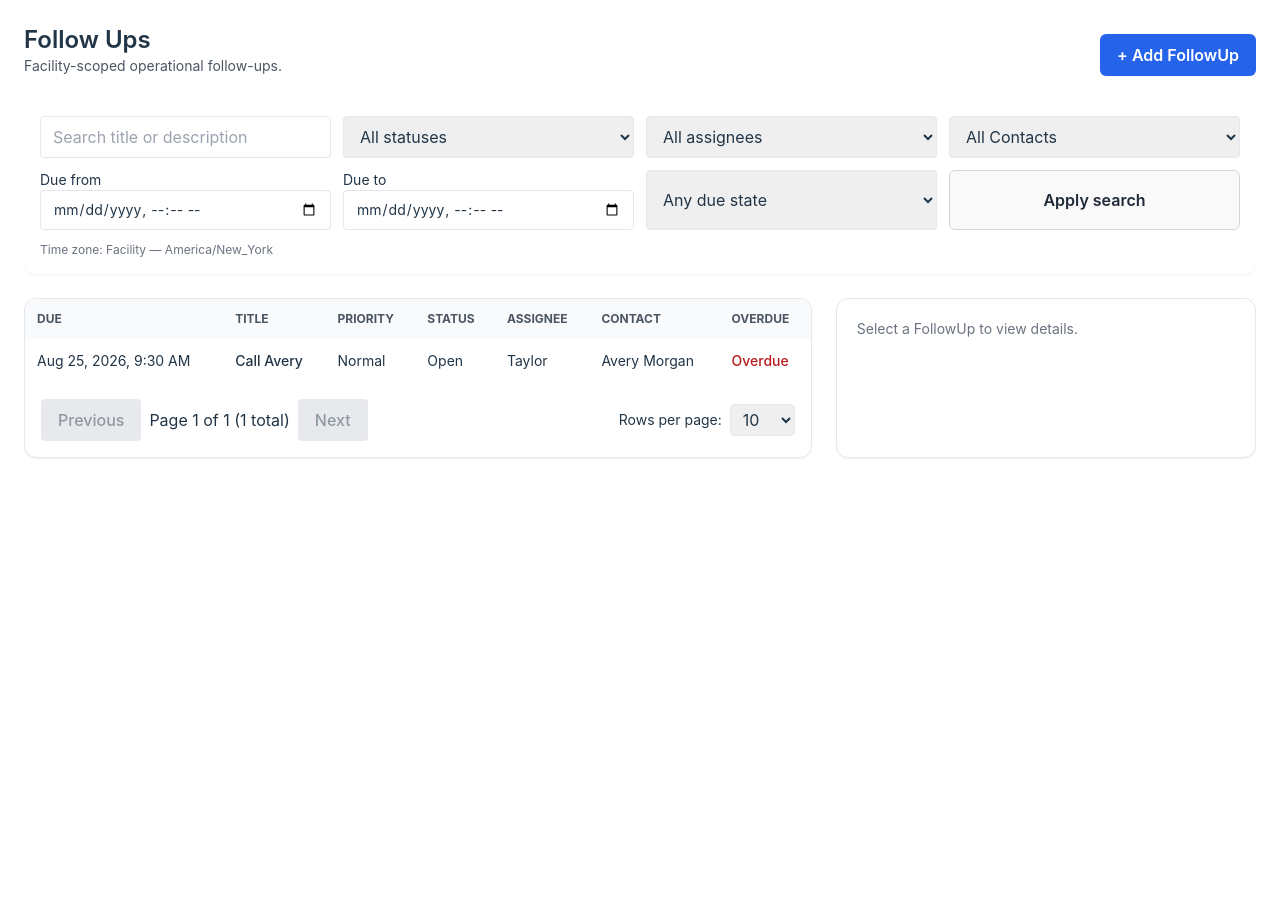
Scenario: FollowUpsPage › shows safe mutation errors inside form
Click the button "+ Add FollowUp" at (1178, 55), box [1100, 34, 1256, 76]
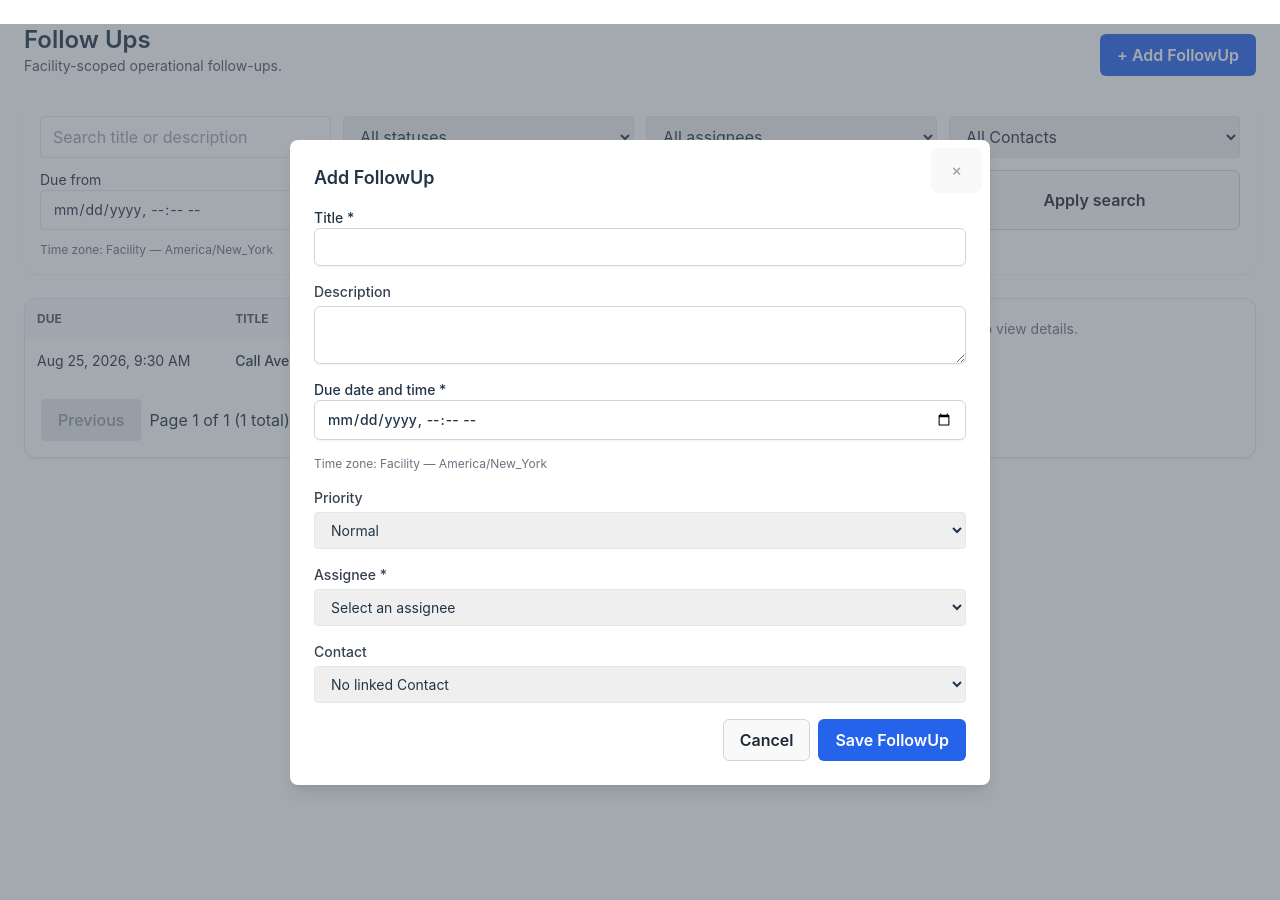
Type "New" into the field labelled "Title *" at (640, 246), box [314, 228, 966, 266]
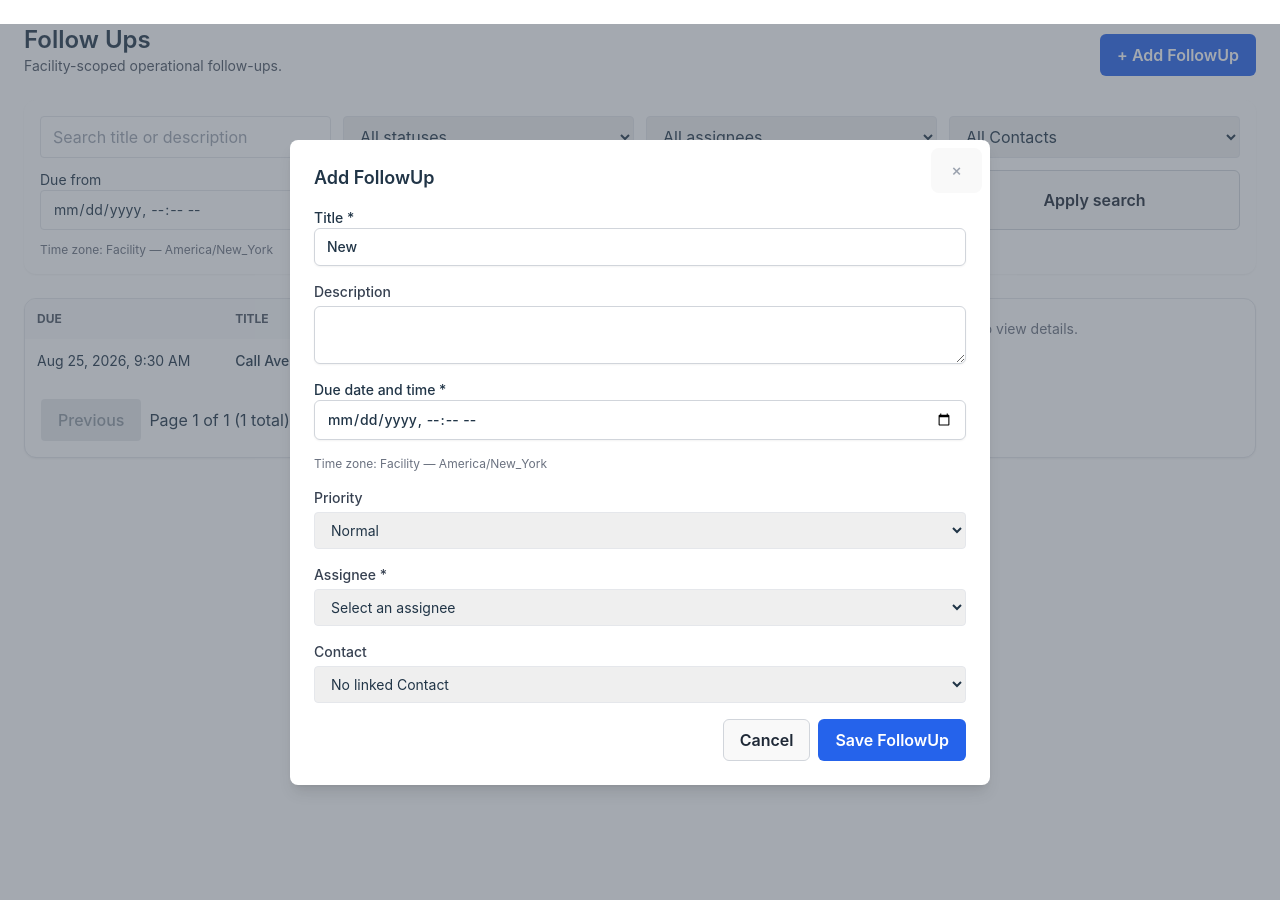
Type "2026-08-25T09:30" into the field labelled "Due date and time *" at (640, 420), box [314, 400, 966, 440]
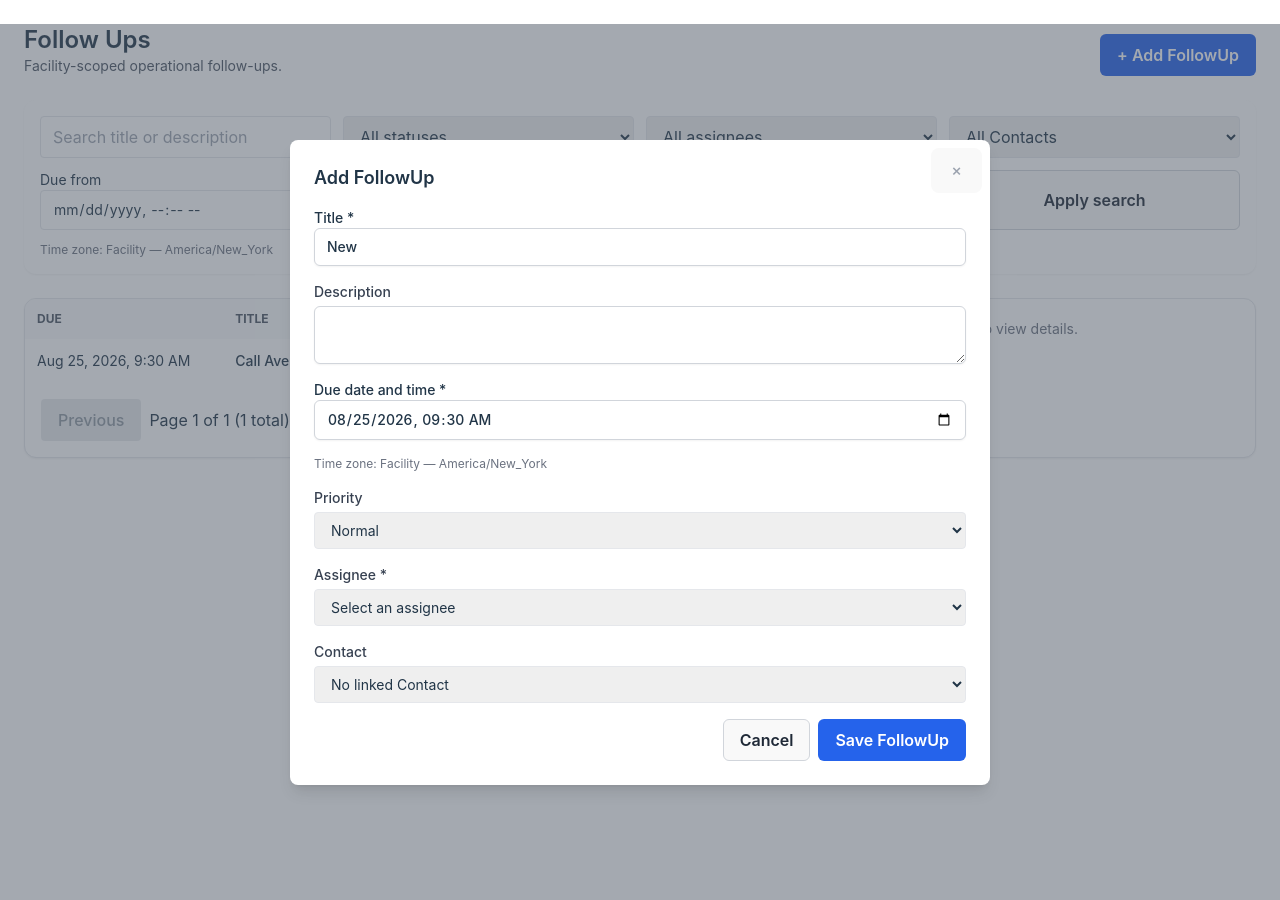
Select "Taylor (technician)" in the dropdown named "assignee" at (640, 607), box [314, 588, 966, 626]
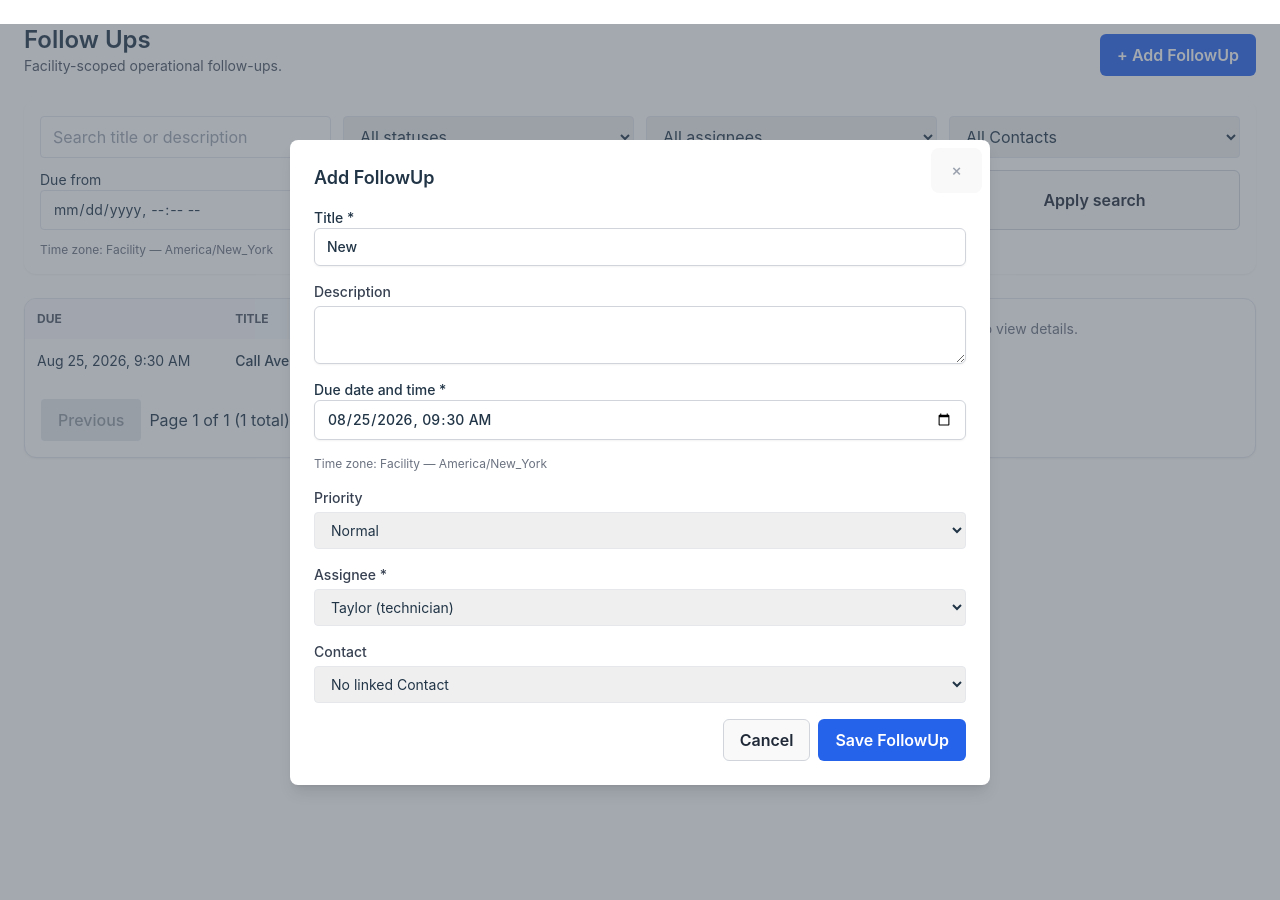
Click the button "Save FollowUp" at (892, 740), box [818, 718, 966, 760]
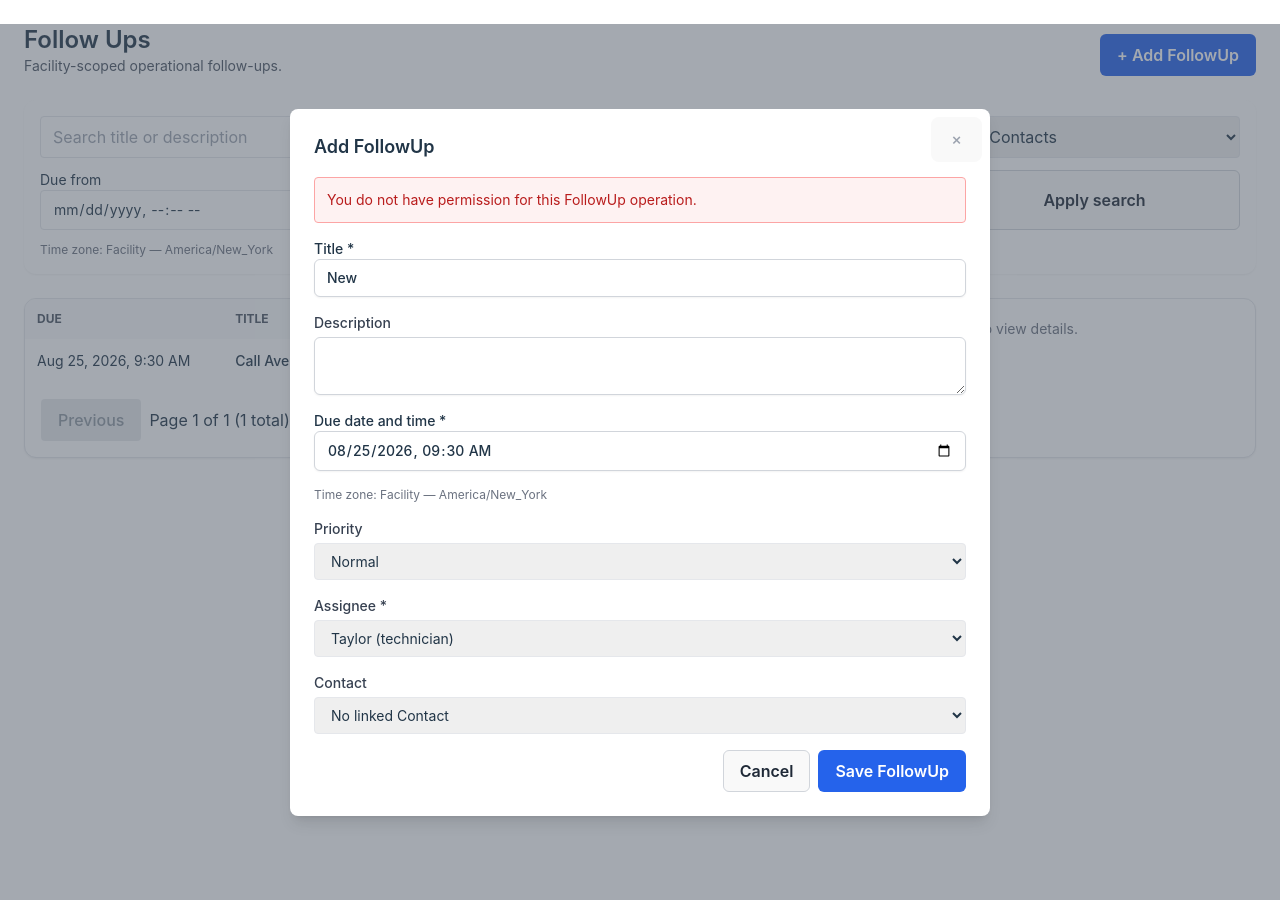
Result: the heading "Add FollowUp" is shown at [314, 136, 434, 156]
Result: the message shows "permission" at [327, 190, 697, 208]
